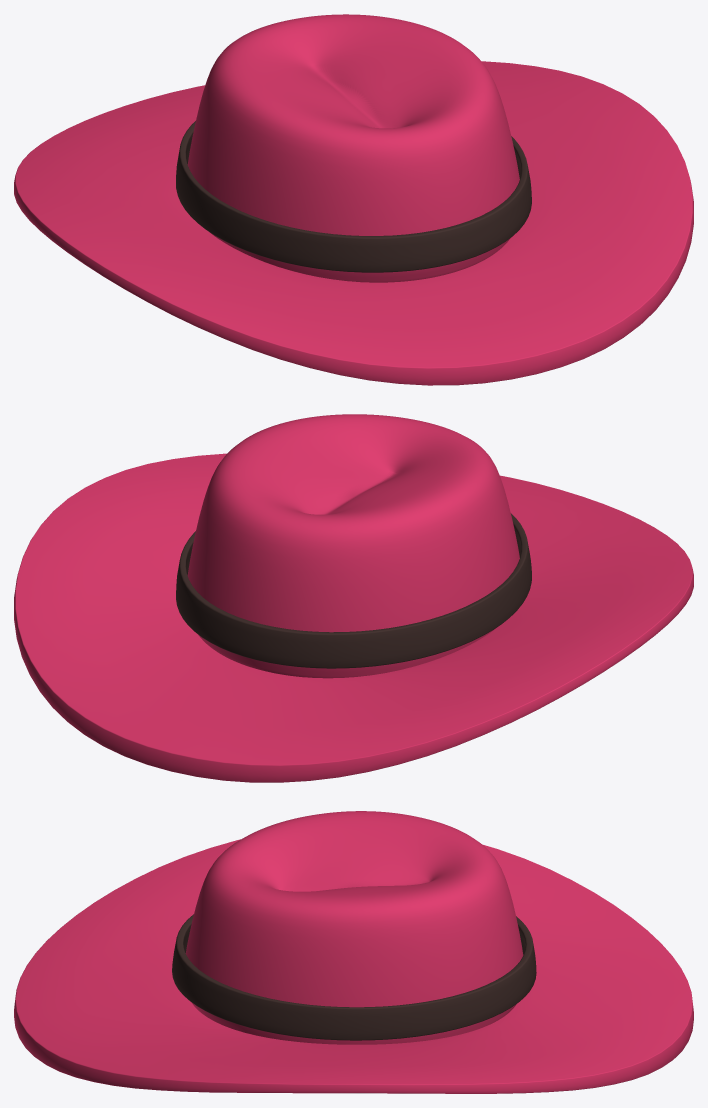
The model's file is raspberry_brim.glb.
The picture shows the model from 3 angles, top to bottom: view 1: azimuth 30°, elevation 25°; view 2: azimuth 150°, elevation 25°; view 3: azimuth 270°, elevation 25°; orthographic projection. The views are drawn at different scales.
Visible parts, largest first — view 1: Brim, Pinched_crown, Ribbon; view 2: Brim, Pinched_crown, Ribbon; view 3: Brim, Pinched_crown, Ribbon.
Part boxes in pixels (x1,y1,x2,y2): Brim: (14, 61, 693, 385); Pinched_crown: (187, 14, 519, 282); Ribbon: (176, 121, 531, 272); Brim: (14, 453, 693, 782); Pinched_crown: (187, 414, 519, 678); Ribbon: (176, 513, 531, 668); Brim: (14, 839, 693, 1093); Pinched_crown: (185, 811, 523, 1044); Ribbon: (172, 914, 536, 1040).
Size of the model in its own units: 1.53 by 0.445 by 1.69.
